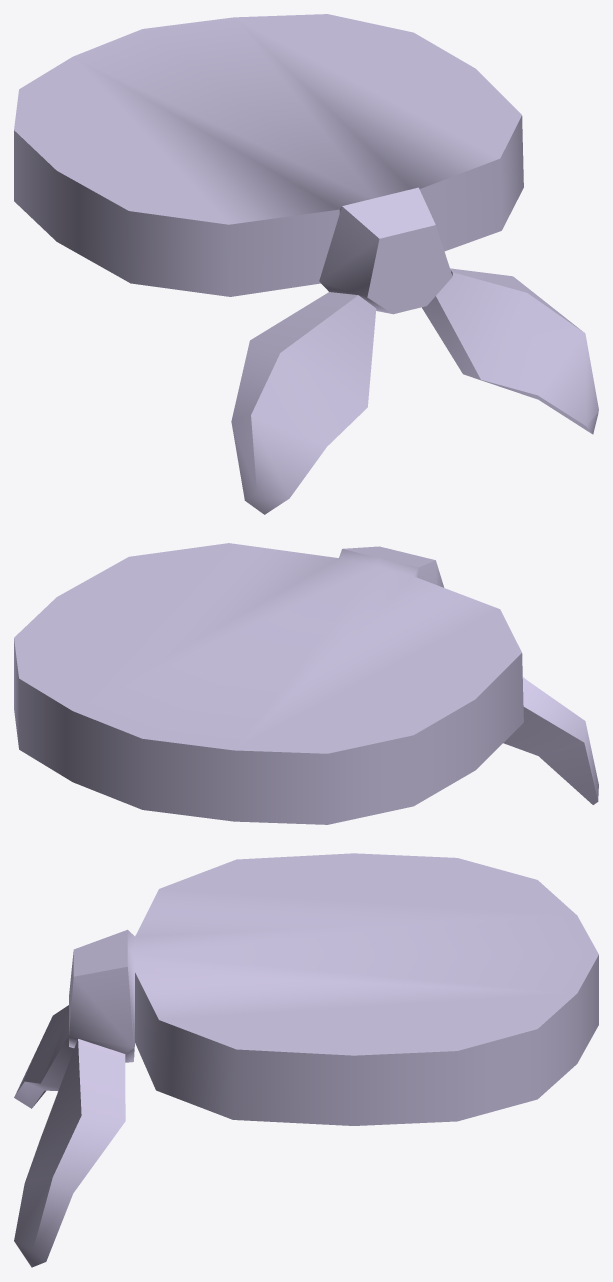
The model's file is scarf2_1.fbx.
The picture shows the model from 3 angles, top to bottom: view 1: azimuth 30°, elevation 25°; view 2: azimuth 150°, elevation 25°; view 3: azimuth 270°, elevation 25°; orthographic projection.
Visible parts, largest first — view 1: scarf2_1; view 2: scarf2_1; view 3: scarf2_1.
Boxes of the visible parts, bbox=[...] form: scarf2_1: bbox=[14, 14, 598, 514]; scarf2_1: bbox=[14, 543, 598, 824]; scarf2_1: bbox=[14, 853, 598, 1267].
Bounding box in the file's own units: 65.92 × 36.48 × 80.55.
1 material, 1 textured.
